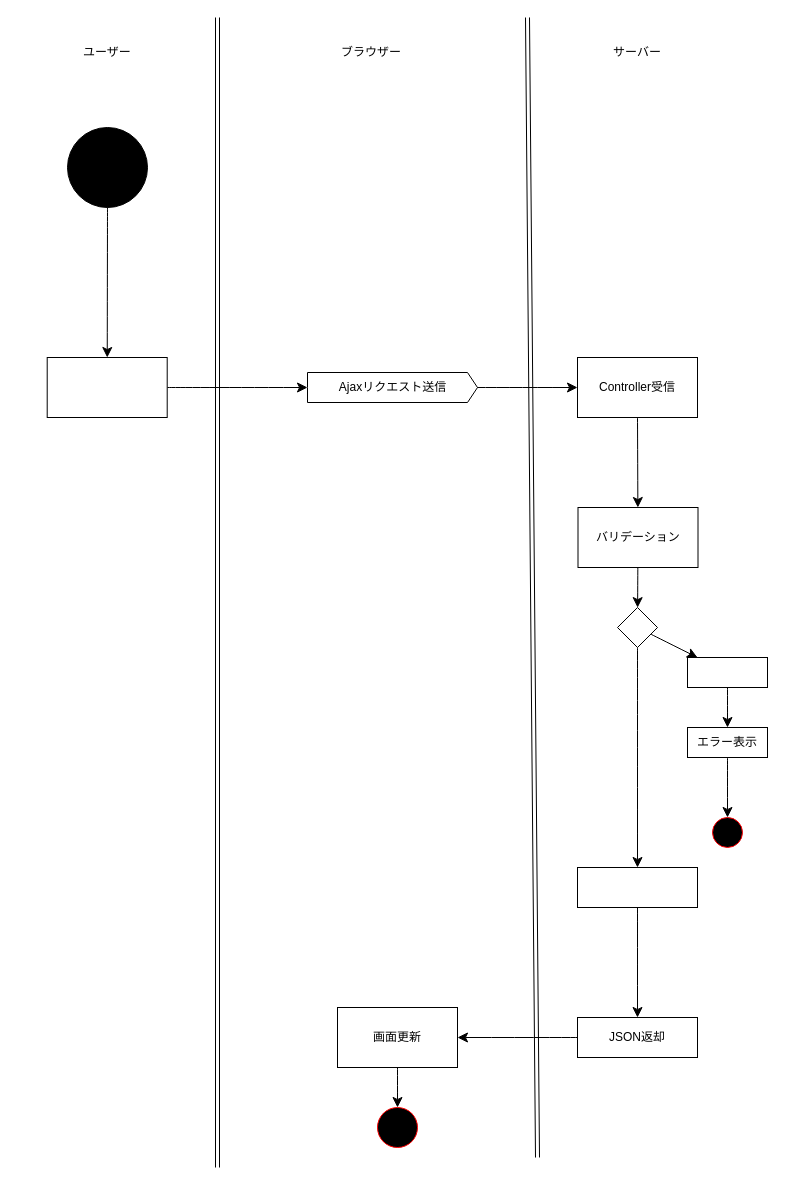
This 785x1186 diagram has some shape labels left out. Each missing label, with the box of its shape:
DB処理: (576, 866, 698, 908)
エラー返却: (686, 656, 768, 688)
検索/購入操作: (46, 356, 167, 418)
